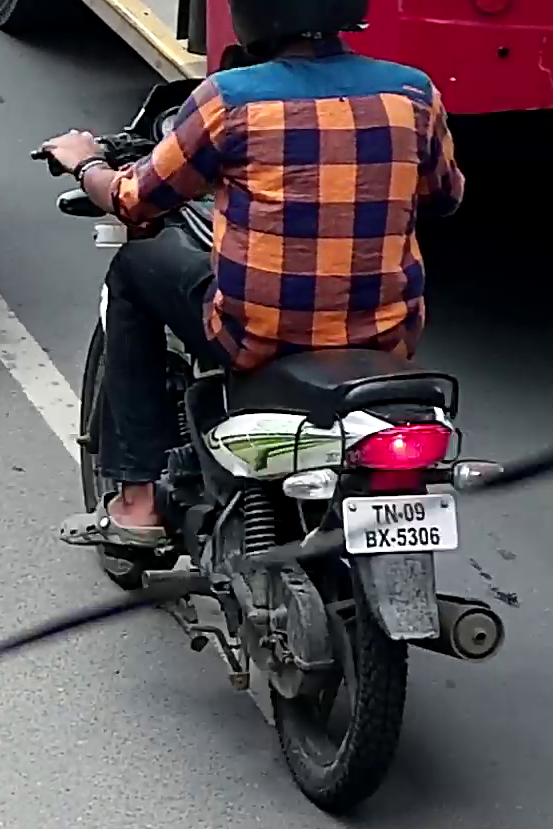-: (398, 511, 403, 519), (390, 537, 396, 542)
0: (418, 527, 429, 545), (404, 503, 414, 522)
3: (407, 527, 418, 546)
5: (397, 528, 407, 547)
6: (429, 526, 440, 545)
9: (414, 502, 425, 521)
B: (365, 530, 377, 548)
N: (385, 502, 398, 524)
P16: (342, 492, 459, 557)
T: (371, 504, 384, 525)
X: (377, 527, 390, 547)
